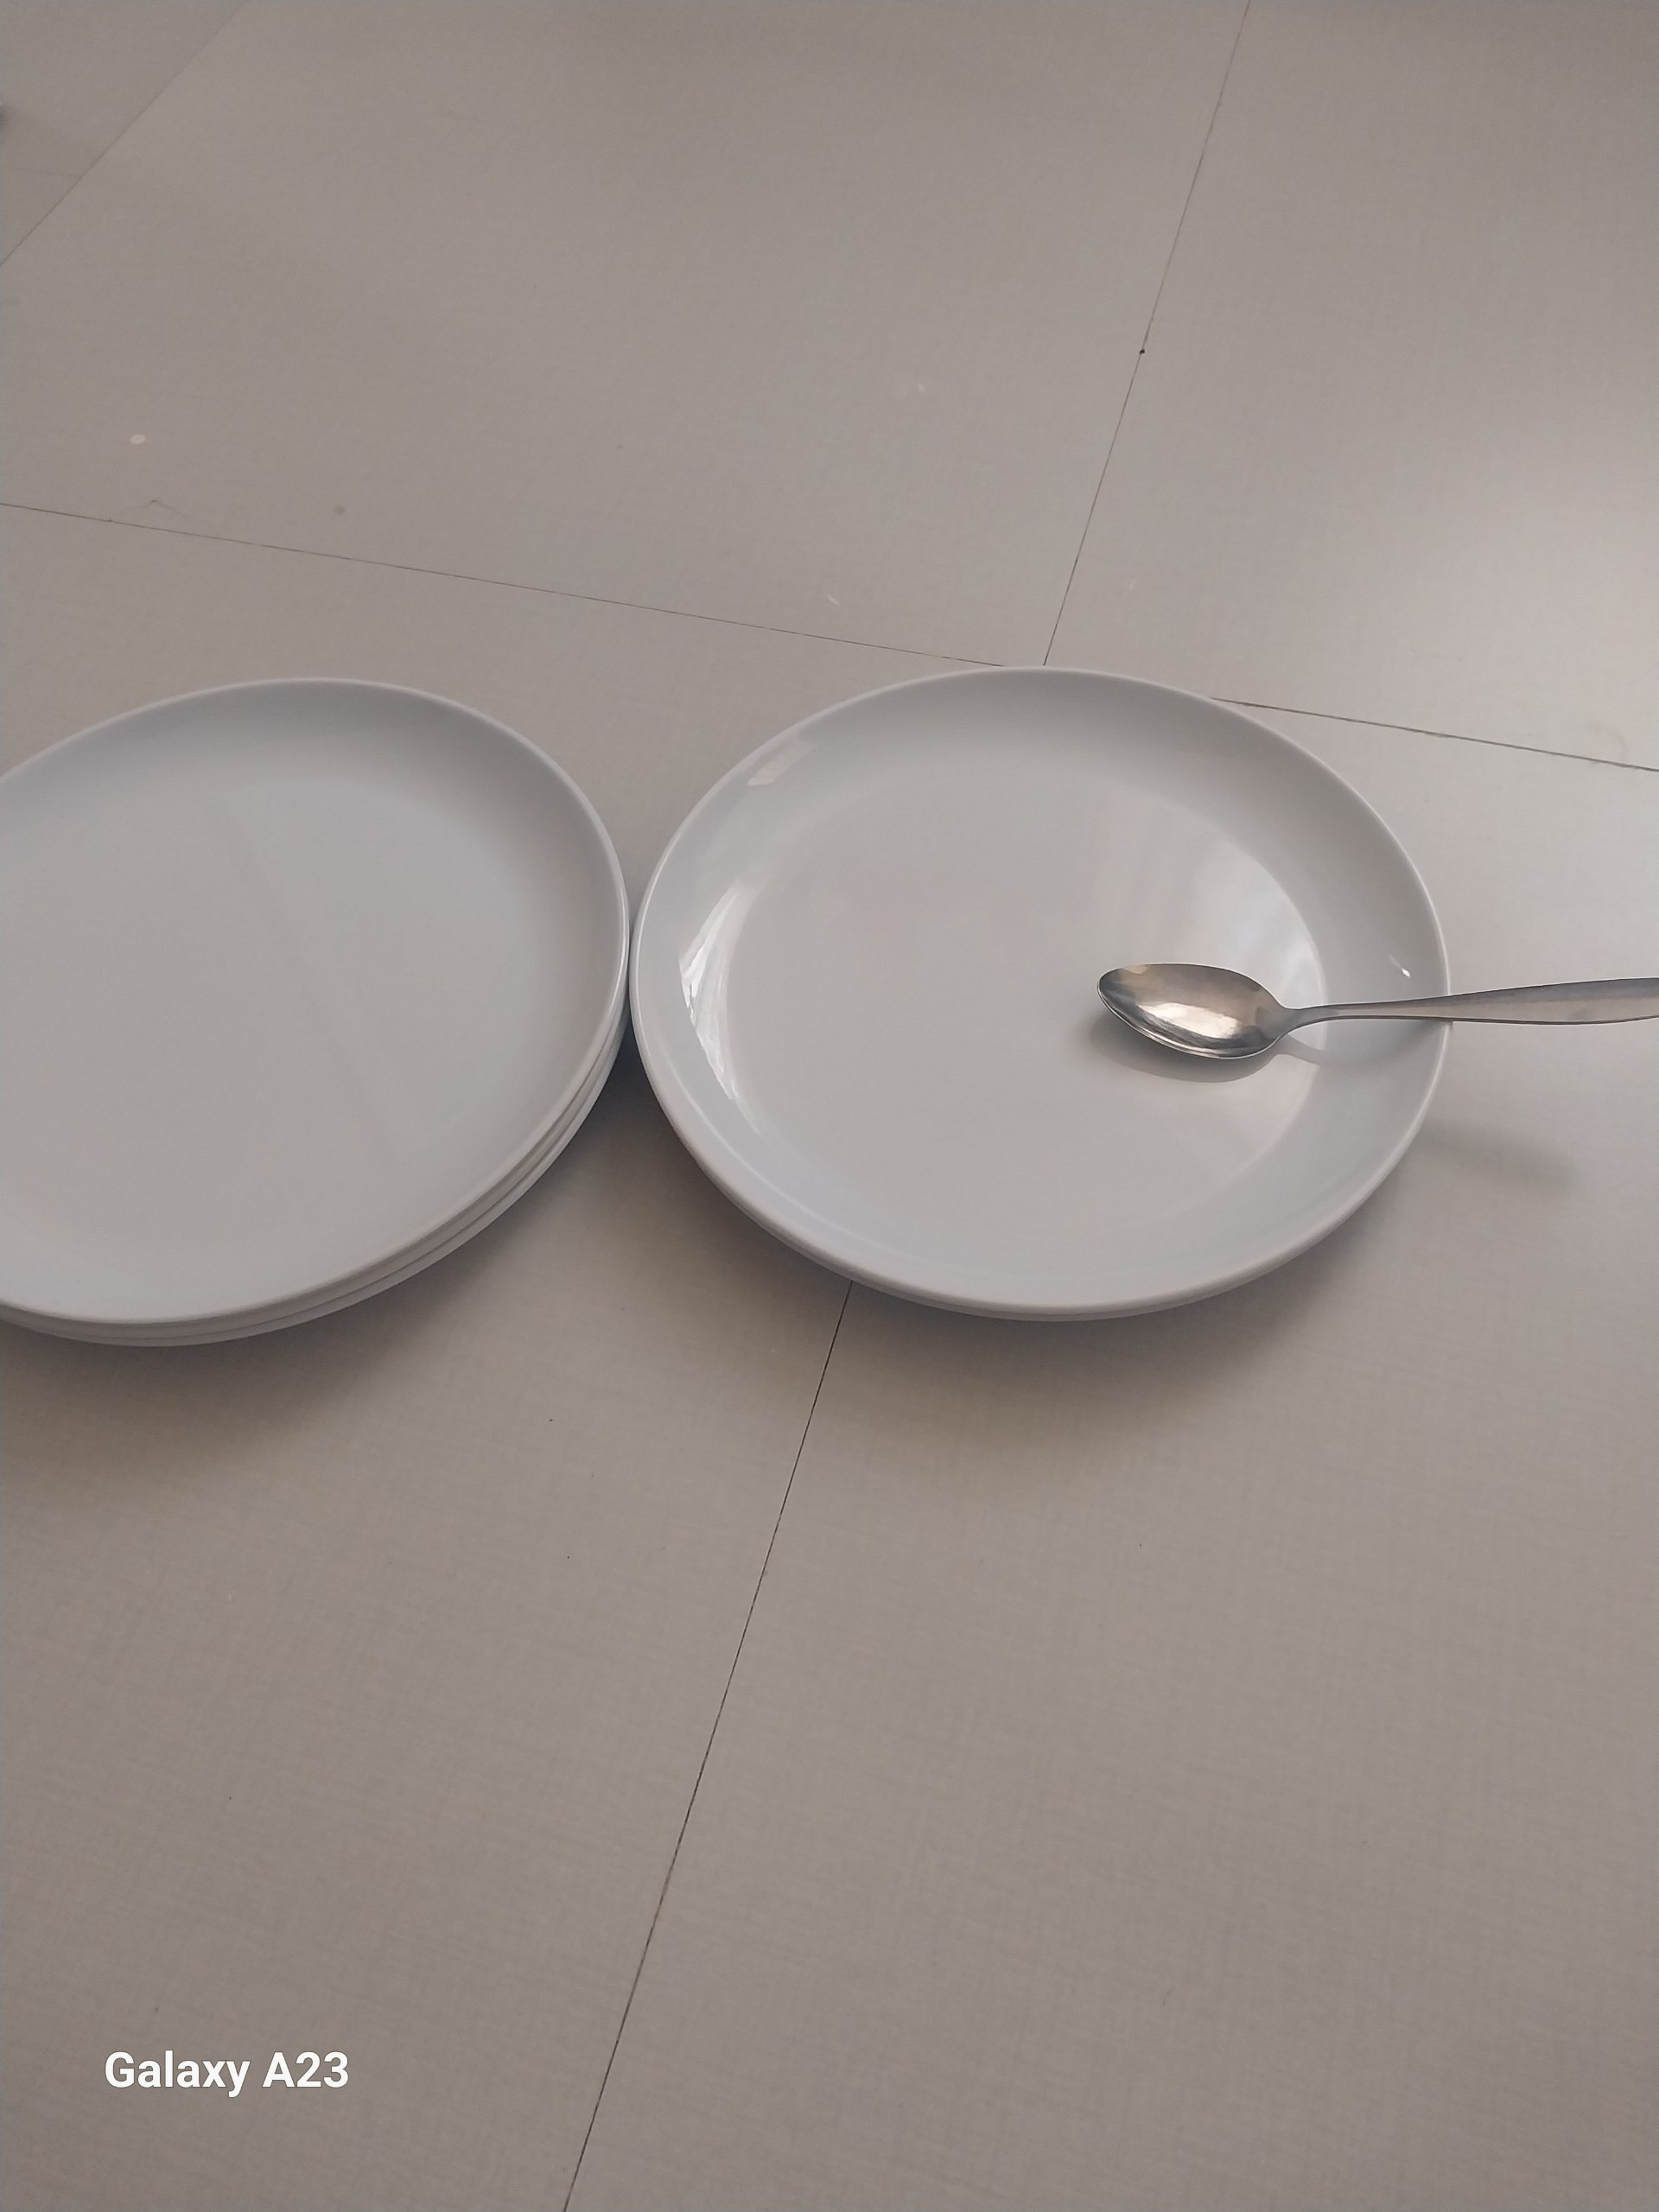Plate: (622, 658, 1462, 1338), (0, 671, 640, 1381)
Spoon: (1086, 935, 1659, 1078)
